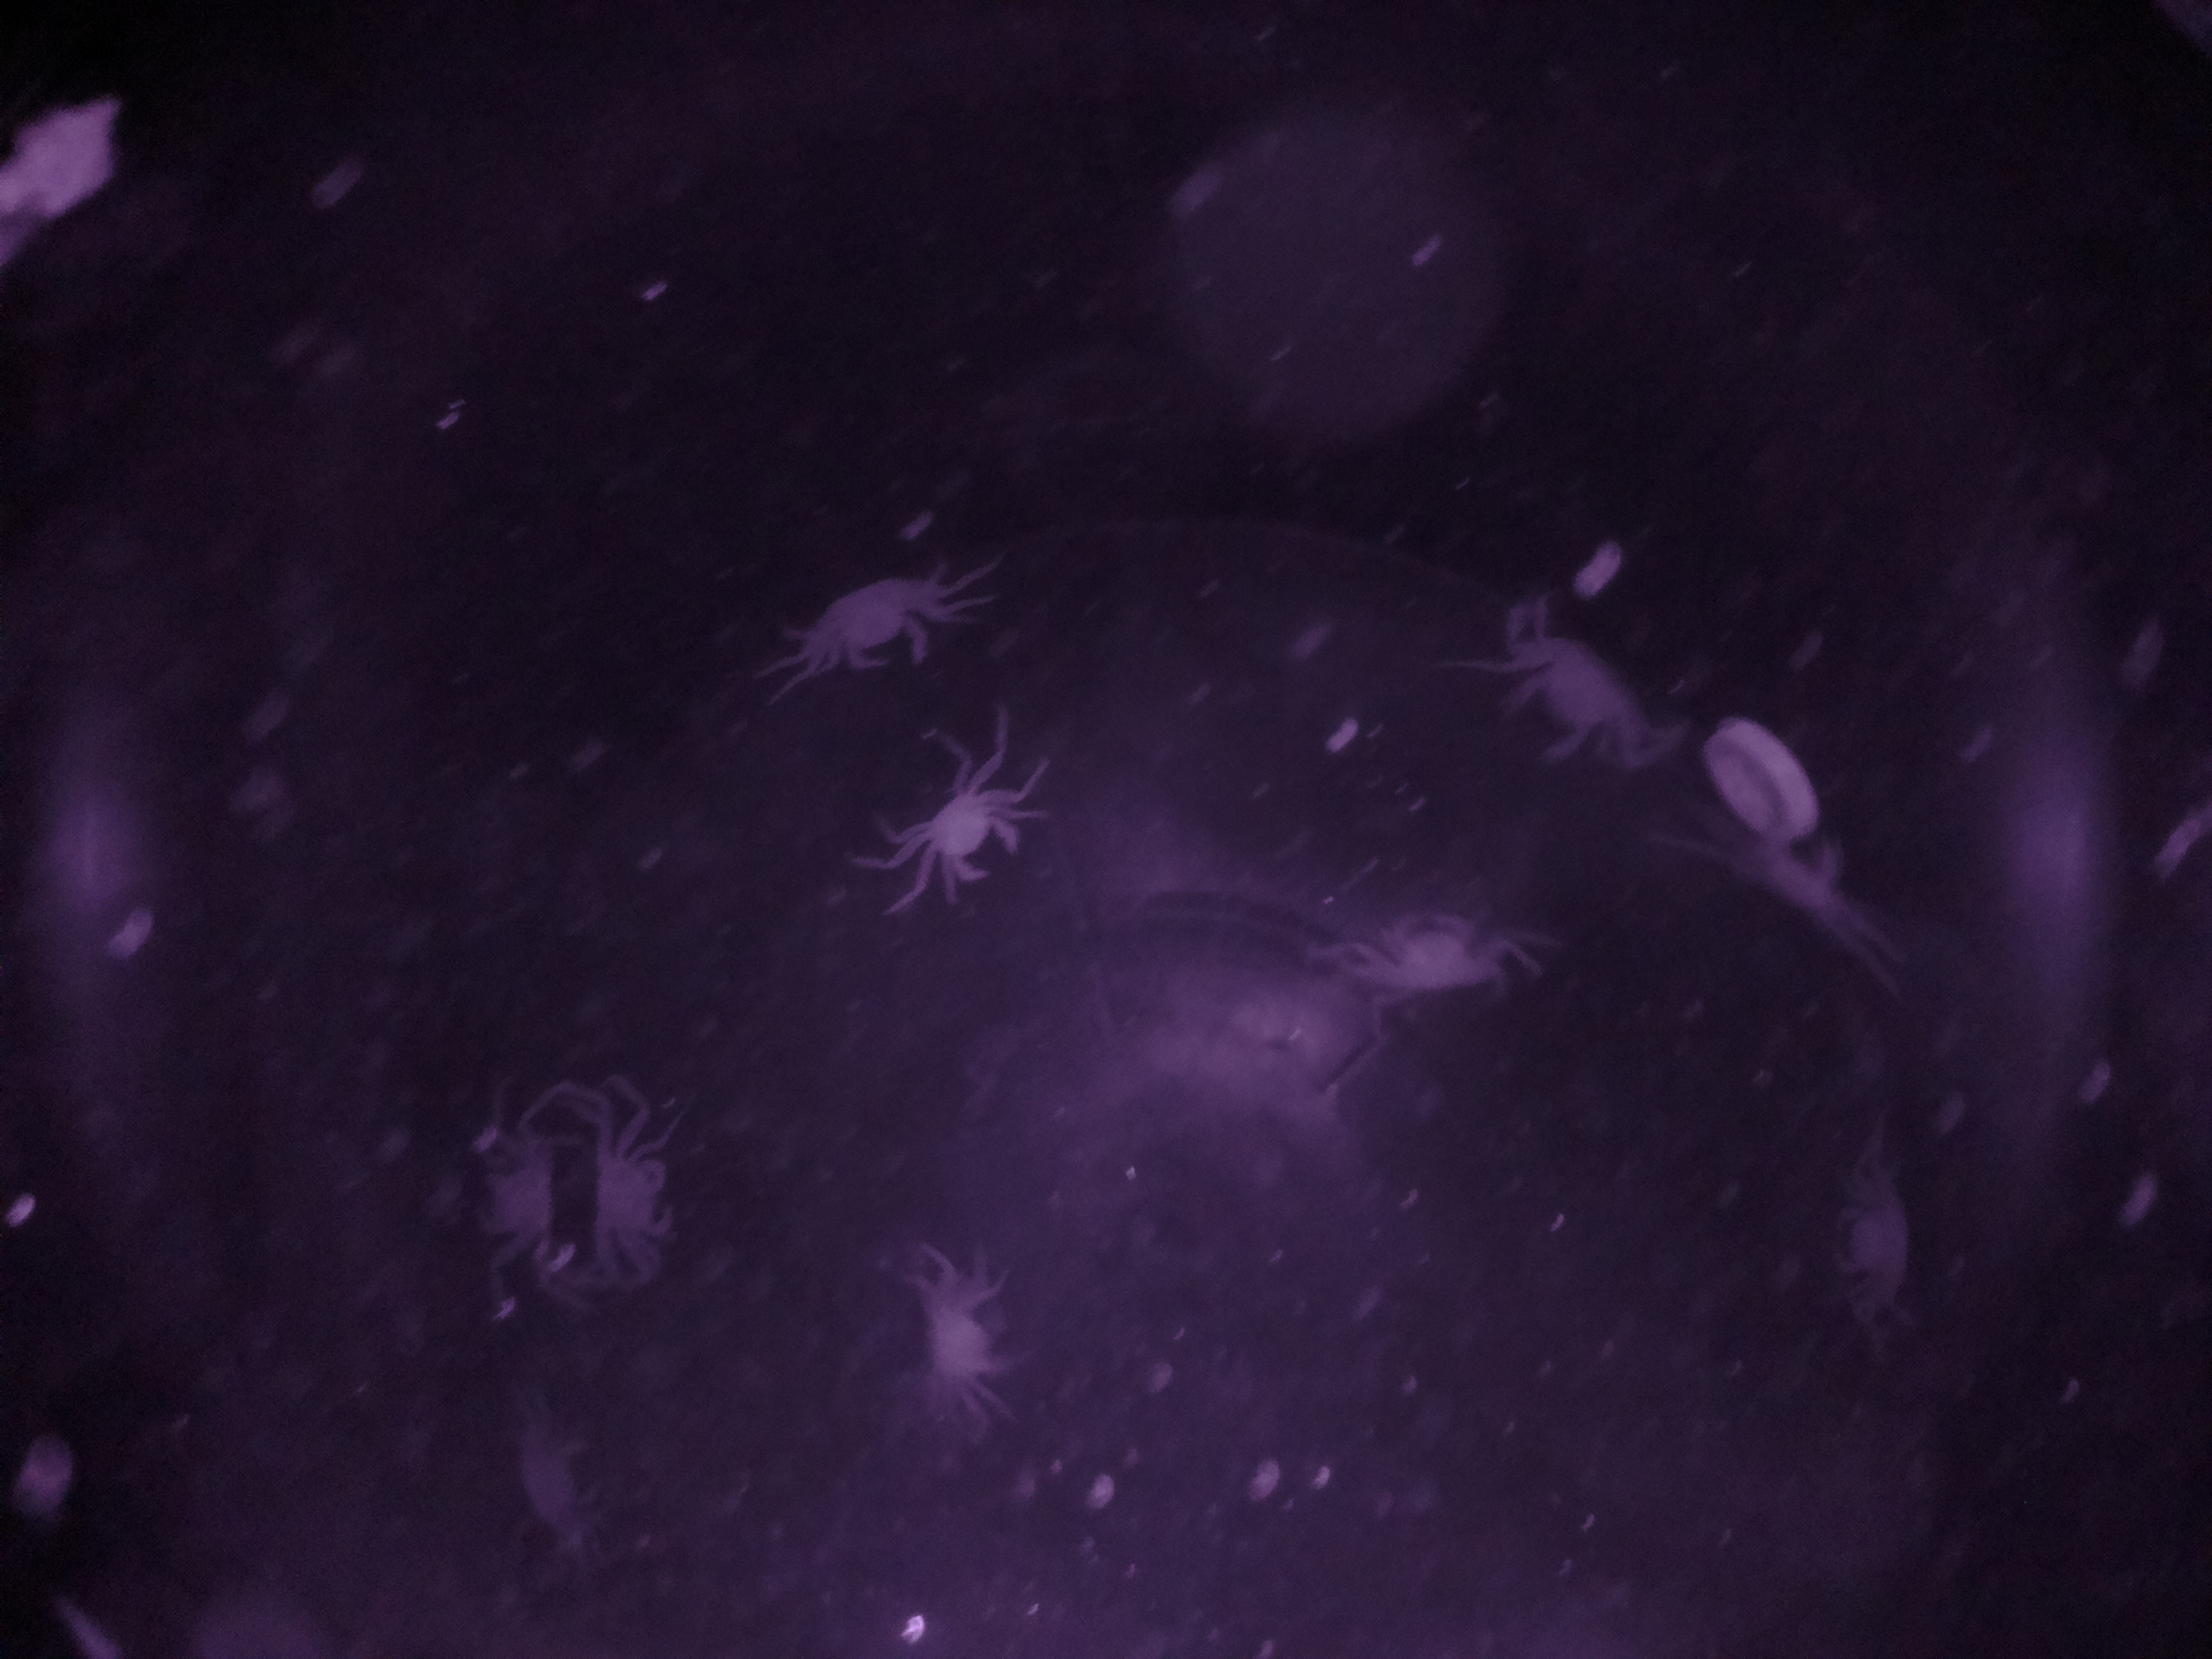Crab: (897, 746, 1040, 918), (796, 542, 951, 699), (451, 1098, 568, 1295), (575, 1108, 697, 1277)
